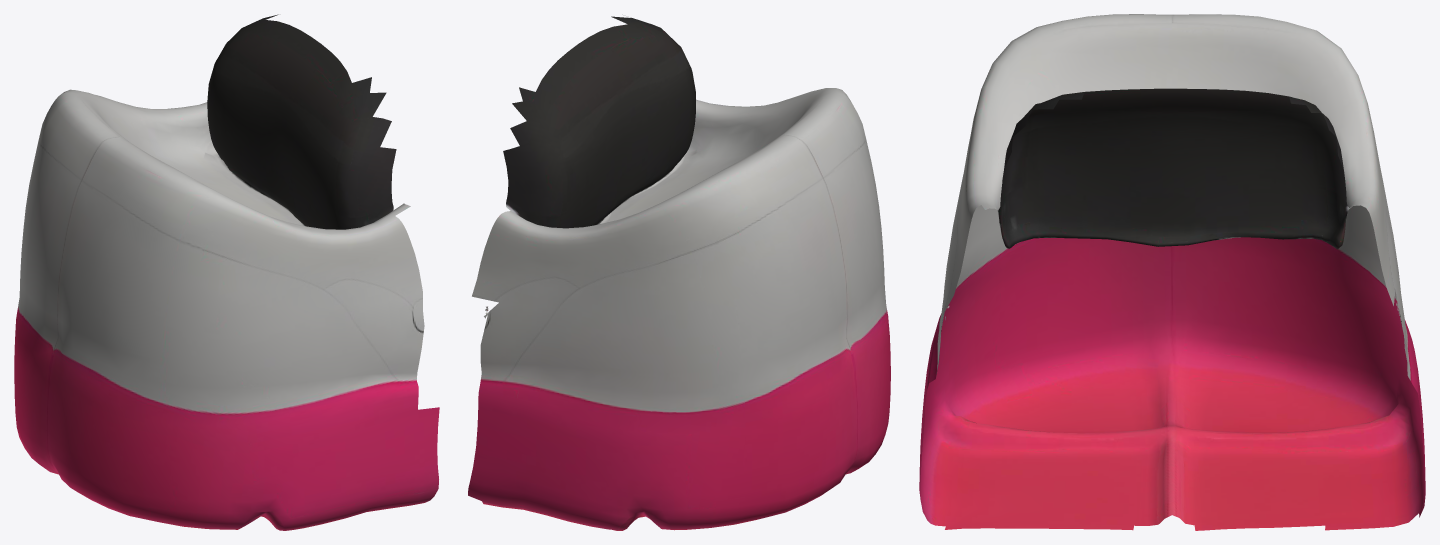
The model's file is chr_player_capsule01_bunny01_foot_l_top3d_v001.glb.
3 views of the same model, side by side, from view 1: azimuth 30°, elevation 25°; view 2: azimuth 150°, elevation 25°; view 3: azimuth 270°, elevation 25° (orthographic). The views are drawn at different scales.
Parts seen in each view (by area): view 1: BunnyFootL; view 2: BunnyFootL; view 3: BunnyFootL.
Boxes of the visible parts, box(x1,y1,x2,y2) form: BunnyFootL: box(14, 14, 439, 530); BunnyFootL: box(468, 16, 890, 530); BunnyFootL: box(919, 14, 1425, 530).
Bounding box in the file's own units: 0.1534 × 0.1956 × 0.2035.
Materials: 1 (1 with a texture image).
